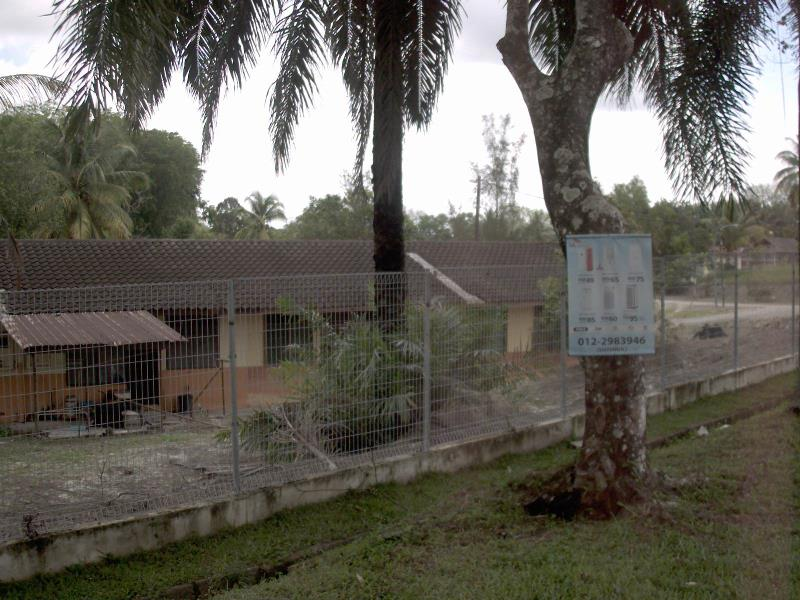ads_sign: (555, 223, 667, 369)
